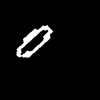chain: (17, 25, 52, 56)
